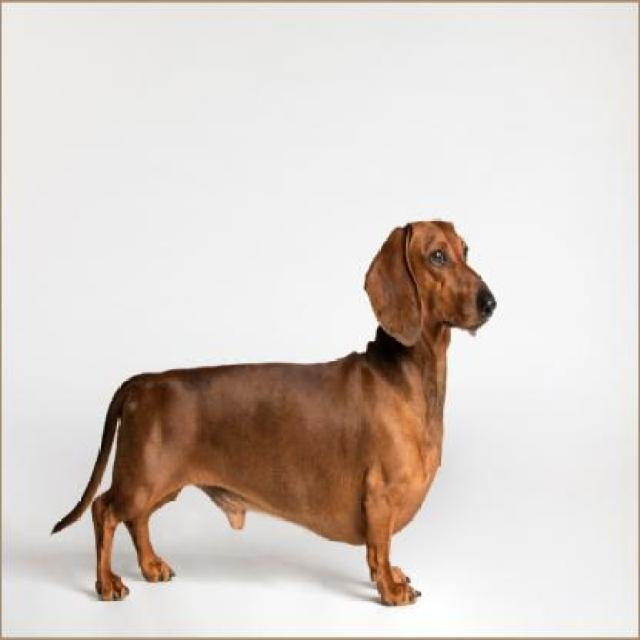Dog: (46, 217, 497, 614)
